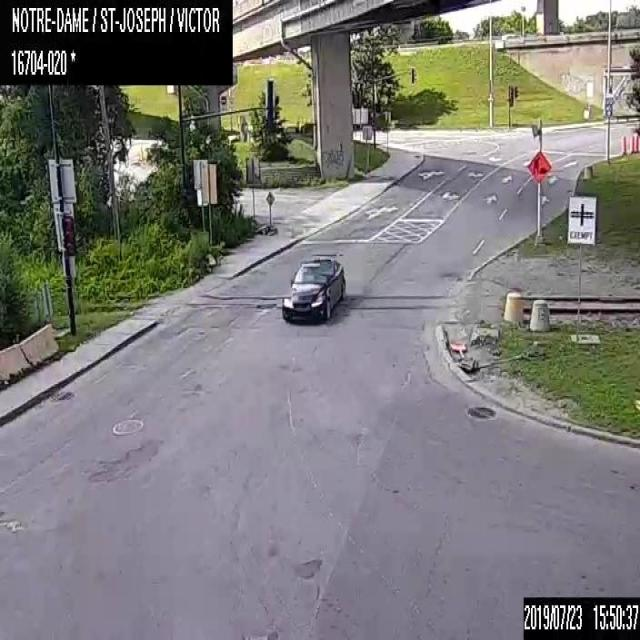construction: (526, 150, 551, 181), (633, 132, 638, 150), (621, 135, 626, 152), (629, 135, 633, 152), (638, 136, 639, 151)
vehicle: (281, 258, 345, 324)
